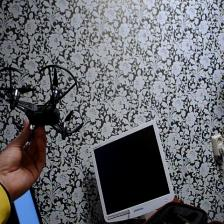drone: (0, 58, 92, 151)
